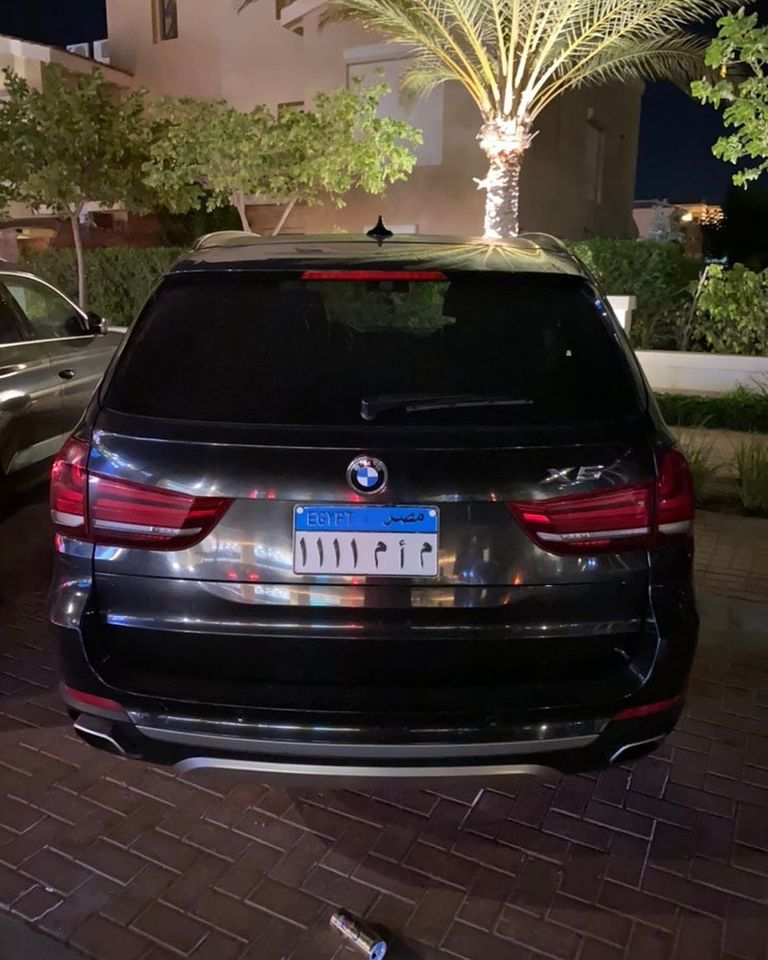carpl: (296, 536, 437, 569)
